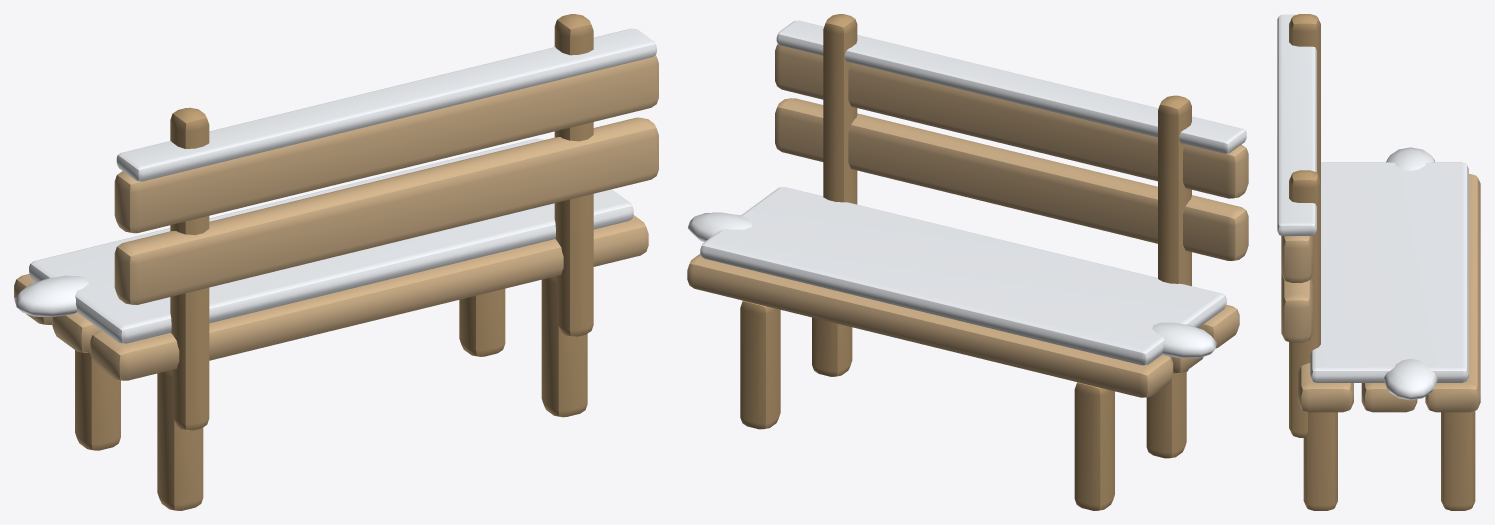
Rendered from bench_winter_v1.glb.
3 renders of one model, left to right at view 1: azimuth 30°, elevation 25°; view 2: azimuth 150°, elevation 25°; view 3: azimuth 270°, elevation 25°, orthographic. The views are drawn at different scales.
Size of the model in its own units: 2.2 by 1.4 by 0.77.
